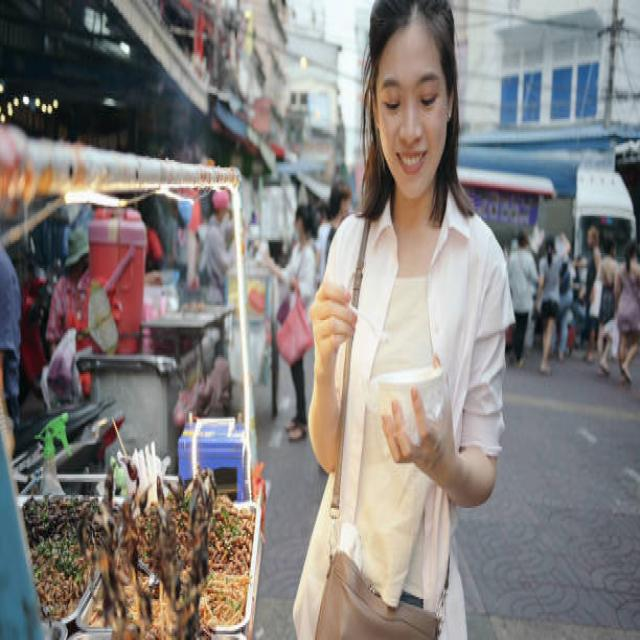Emperan: (0, 116, 276, 640)
